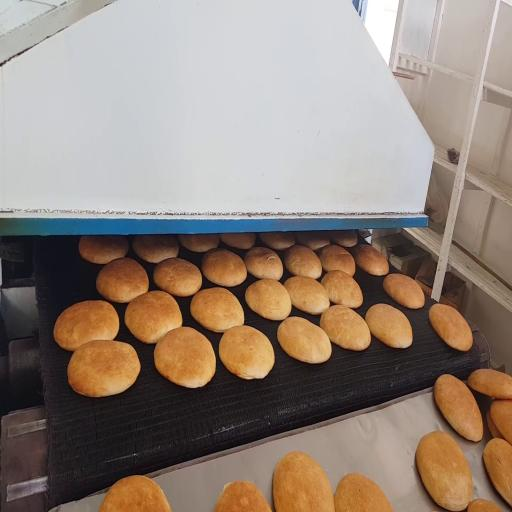bread: (416, 431, 472, 511), (68, 340, 140, 397), (154, 327, 215, 388), (273, 452, 334, 511), (54, 301, 119, 351), (434, 375, 483, 441), (125, 291, 182, 343), (219, 326, 274, 379), (99, 476, 171, 511), (278, 317, 331, 363), (190, 288, 244, 332), (96, 258, 149, 302), (320, 305, 370, 350), (335, 474, 392, 511), (365, 304, 412, 348), (429, 304, 473, 351), (245, 279, 291, 320), (483, 439, 511, 506), (154, 258, 202, 296), (284, 276, 329, 314), (202, 249, 246, 287), (214, 482, 270, 511), (321, 271, 362, 308), (383, 274, 424, 309), (79, 236, 128, 264), (284, 245, 322, 279), (468, 369, 511, 399), (244, 247, 283, 280), (133, 235, 178, 263), (319, 245, 355, 276), (355, 245, 388, 275), (490, 400, 511, 444), (179, 234, 219, 252), (295, 231, 330, 251), (260, 232, 295, 250), (220, 233, 255, 249), (329, 230, 357, 247), (487, 410, 502, 438), (468, 499, 502, 511)
